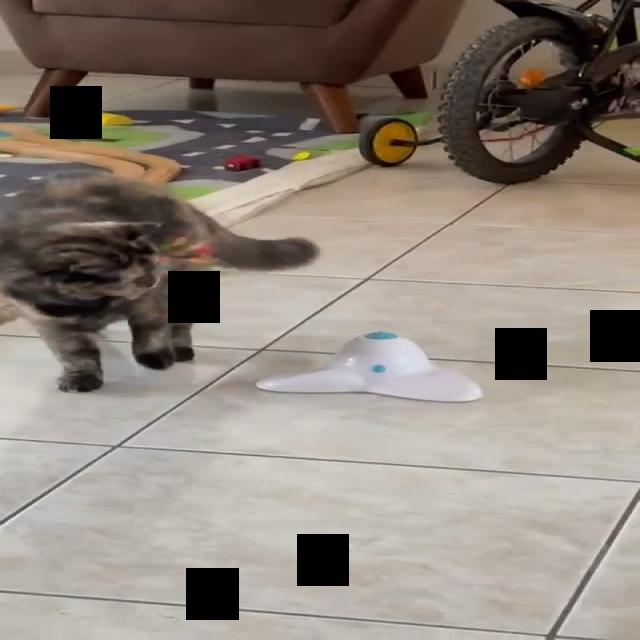authorized: (0, 170, 319, 393)
